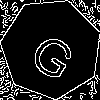G: (26, 23, 84, 83)
